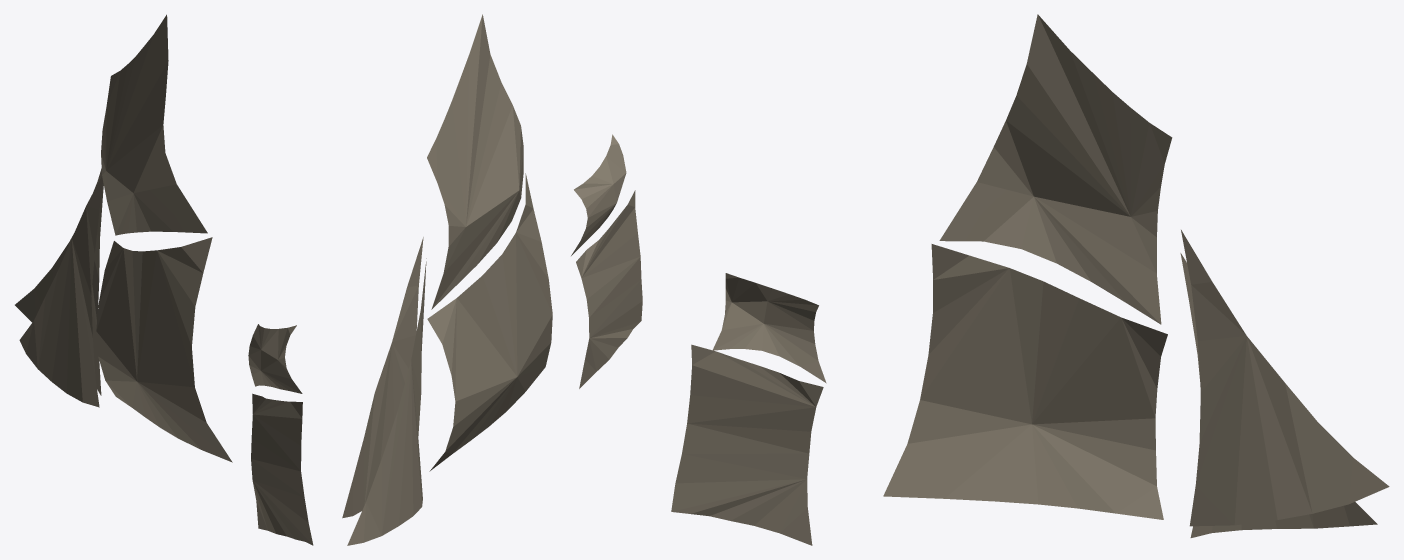
The model's file is sails_hard.fbx.
The picture shows the model from 3 angles, left to right: view 1: azimuth 30°, elevation 25°; view 2: azimuth 150°, elevation 25°; view 3: azimuth 270°, elevation 25°; orthographic projection. The views are drawn at different scales.
Parts seen in each view (by area): view 1: Cylinder10.001; view 2: Cylinder10.001; view 3: Cylinder10.001.
Boxes of the visible parts, x1,y1,x2,y2 form: Cylinder10.001: (15, 14, 313, 545); Cylinder10.001: (342, 14, 642, 545); Cylinder10.001: (671, 14, 1389, 545).
Size of the model in its own units: 52.34 by 532 by 650.
